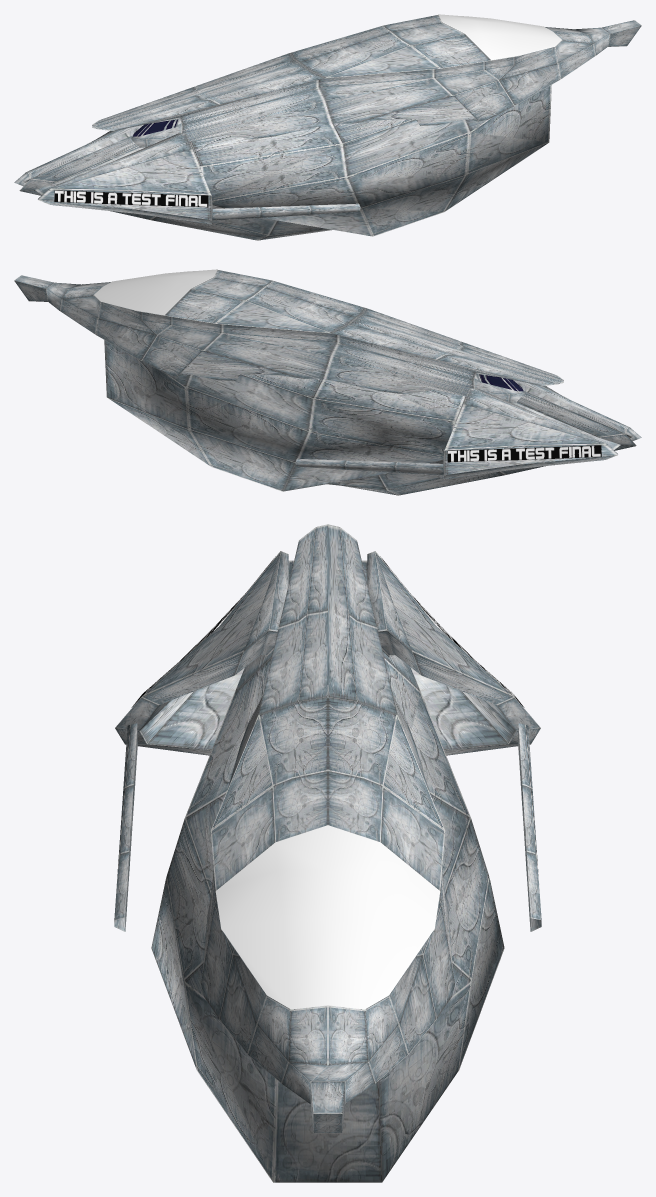
The model's file is sjh13.obj.
3 views of the same model, one above another, from view 1: azimuth 30°, elevation 25°; view 2: azimuth 150°, elevation 25°; view 3: azimuth 270°, elevation 25° (orthographic). The views are drawn at different scales.
Parts seen in each view (by area): view 1: TRADER_HULL_30, DECAL030, NAMEDECAL0, COCKPIT_TRADER0; view 2: TRADER_HULL_30, DECAL030, NAMEDECAL0, COCKPIT_TRADER0; view 3: TRADER_HULL_30, DECAL030.
Boxes of the visible parts, <box> form: TRADER_HULL_30: <box>14,14,641,240</box>; DECAL030: <box>438,14,561,60</box>; NAMEDECAL0: <box>54,130,208,207</box>; COCKPIT_TRADER0: <box>133,118,178,136</box>; TRADER_HULL_30: <box>14,270,641,495</box>; DECAL030: <box>94,269,217,315</box>; NAMEDECAL0: <box>447,386,601,462</box>; COCKPIT_TRADER0: <box>476,373,523,391</box>; TRADER_HULL_30: <box>114,524,541,1182</box>; DECAL030: <box>215,825,440,1009</box>.
Bounding box in the file's own units: 73.55 × 20.78 × 21.98.
Materials: 5 (5 with a texture image).
